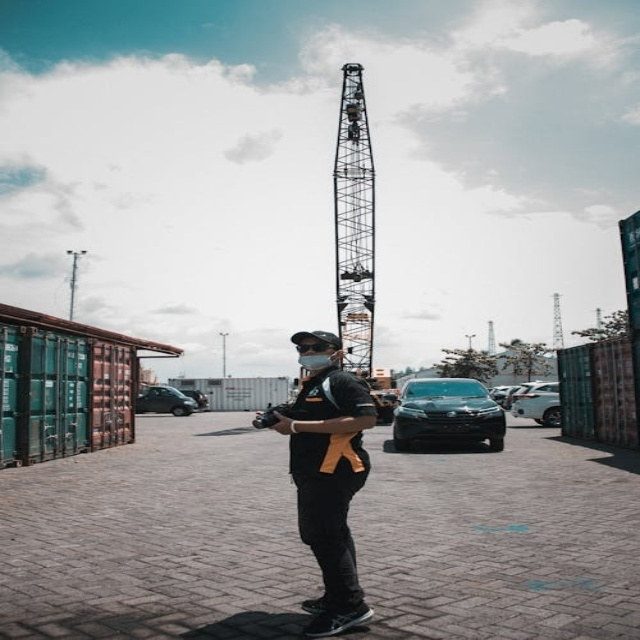Gafas: (295, 343, 336, 353)
Mascara: (298, 352, 336, 370)
Sin_guantes: (259, 413, 299, 435)
